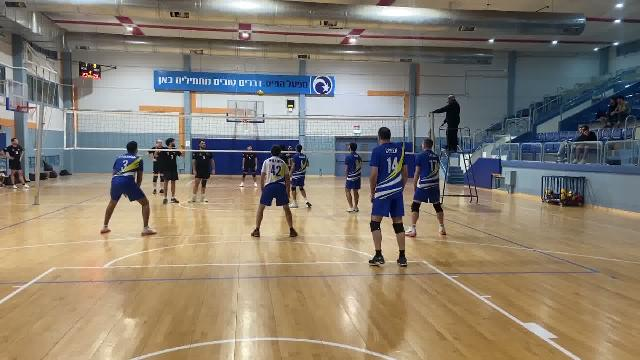ball: (257, 88, 265, 98)
